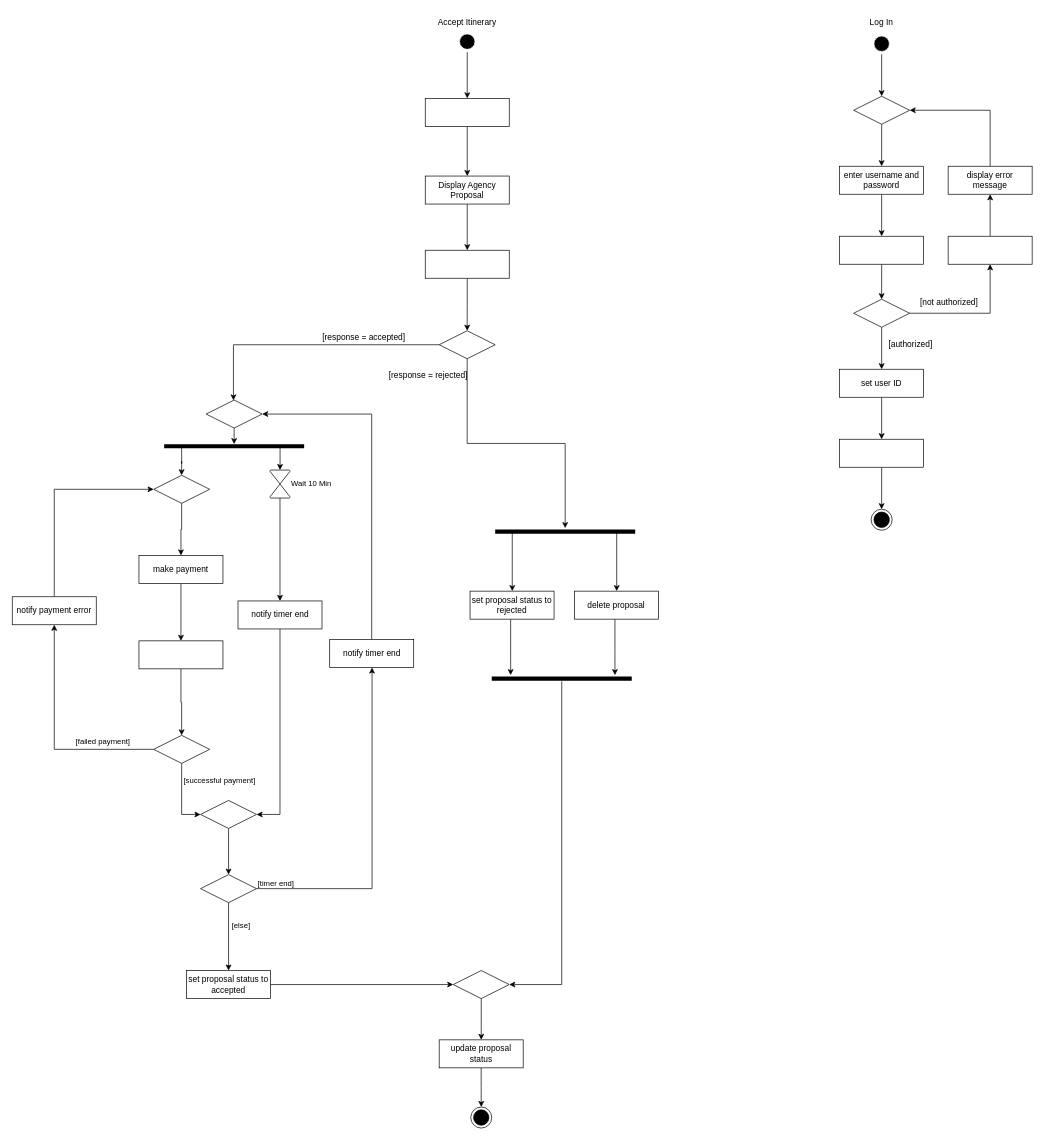
This 1044x1140 diagram has some shape labels left out. The shapes that lost their labels are listed below. From the top down, each one's centre as x and y in pixels, then its label:
[467,112]: *Log In
[467,264]: Response to Proposal
[881,250]: verify username and password
[989,250]: reject log in
[881,453]: add session
[180,654]: verify payment
